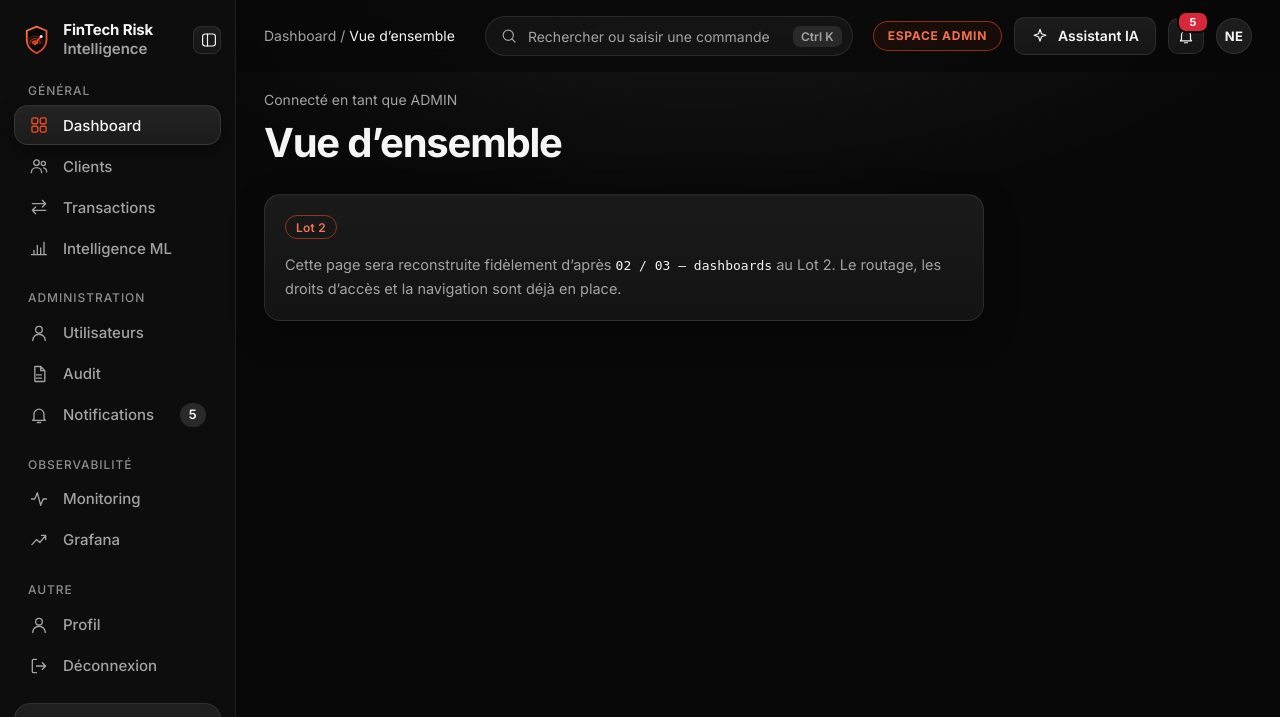
Test: topbar › ouvre et ferme le panneau Assistant IA simulé
What coordinates should you click on to do the following:
click the button "Assistant IA"
I would click on:
 (1085, 36)
Its box is [1014,17,1156,55].
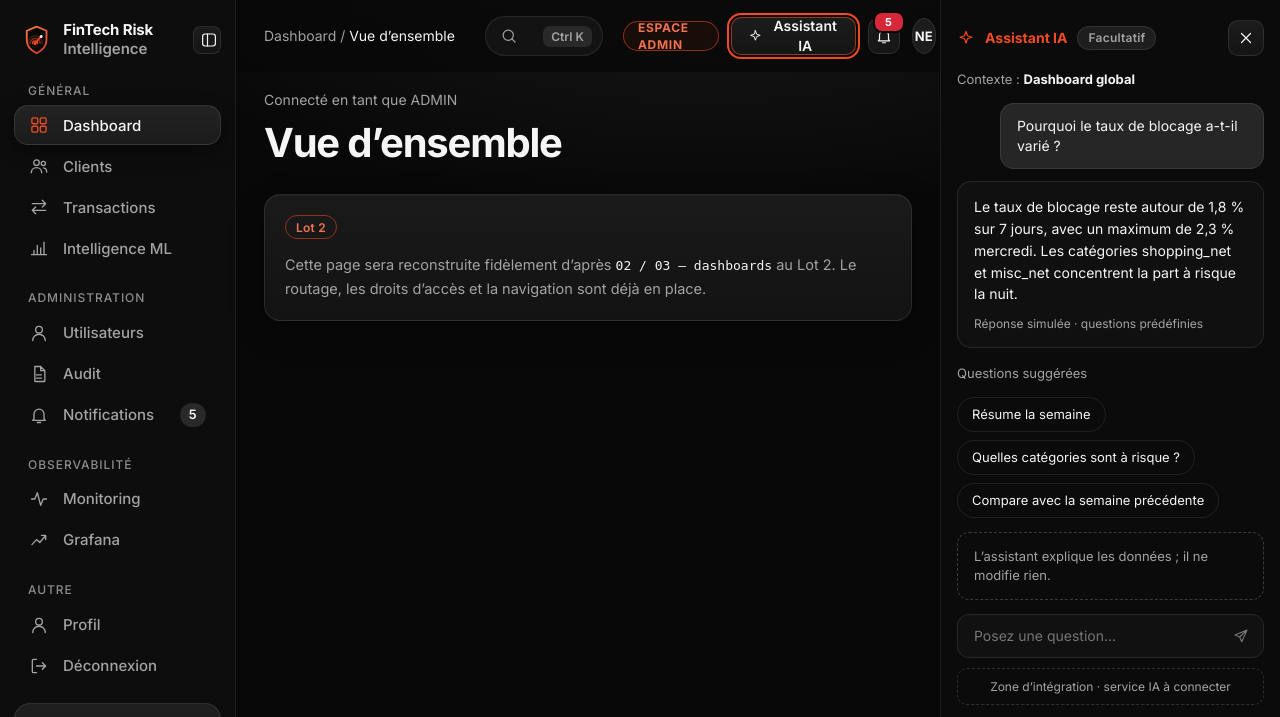
Expected: the text "L’assistant explique les données ; il ne modifie rien." is shown, [957,532,1264,600]
What coordinates should you click on to do the following:
click the button named "Fermer l’assistant"
I would click on:
 (1246, 38)
Its box is [1228,20,1264,56].
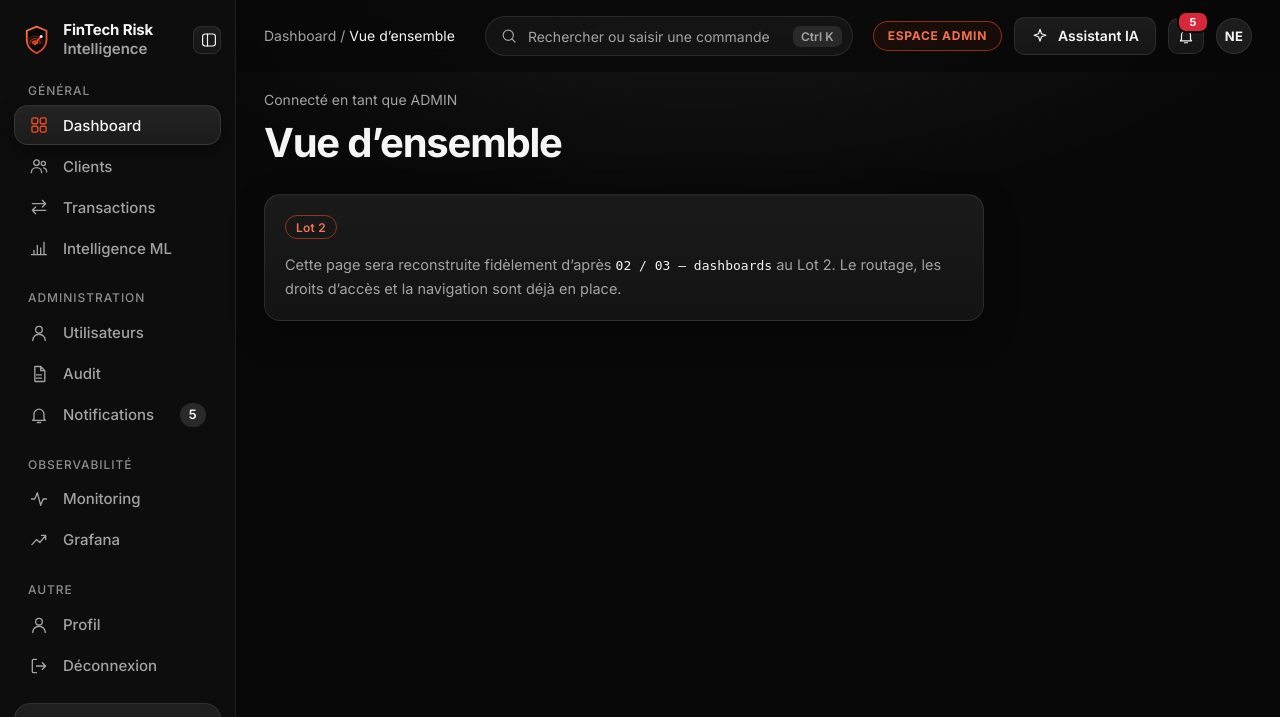
Expected: the text "il ne modifie rien" is gone
